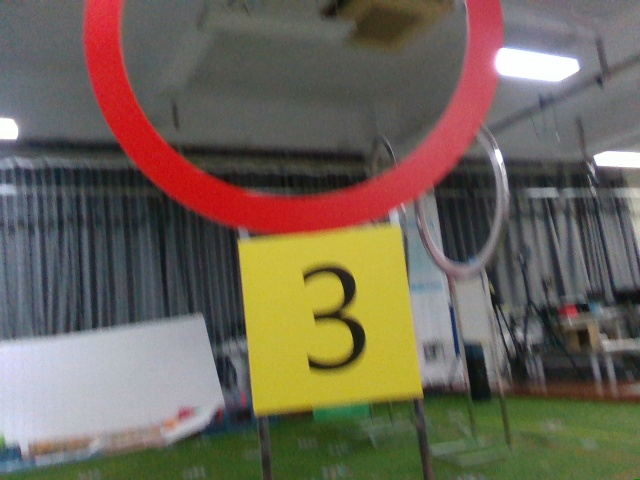target: (247, 237, 414, 394)
